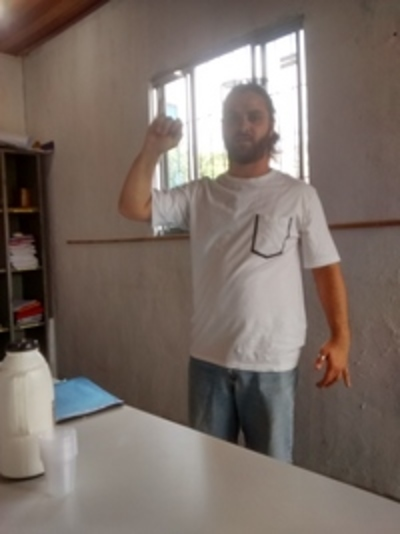closedhandfront: (145, 114, 188, 147)
mindinho: (343, 360, 354, 389), (155, 92, 164, 114)
